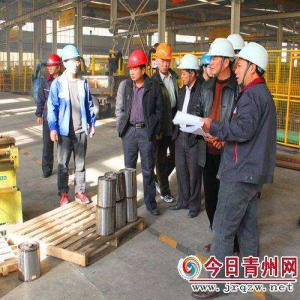blue: (62, 45, 81, 75), (202, 54, 215, 80)
red: (129, 49, 147, 82), (48, 55, 62, 77)
white: (237, 42, 269, 87), (209, 36, 233, 79), (180, 55, 199, 86)
yellow: (157, 43, 173, 74)
